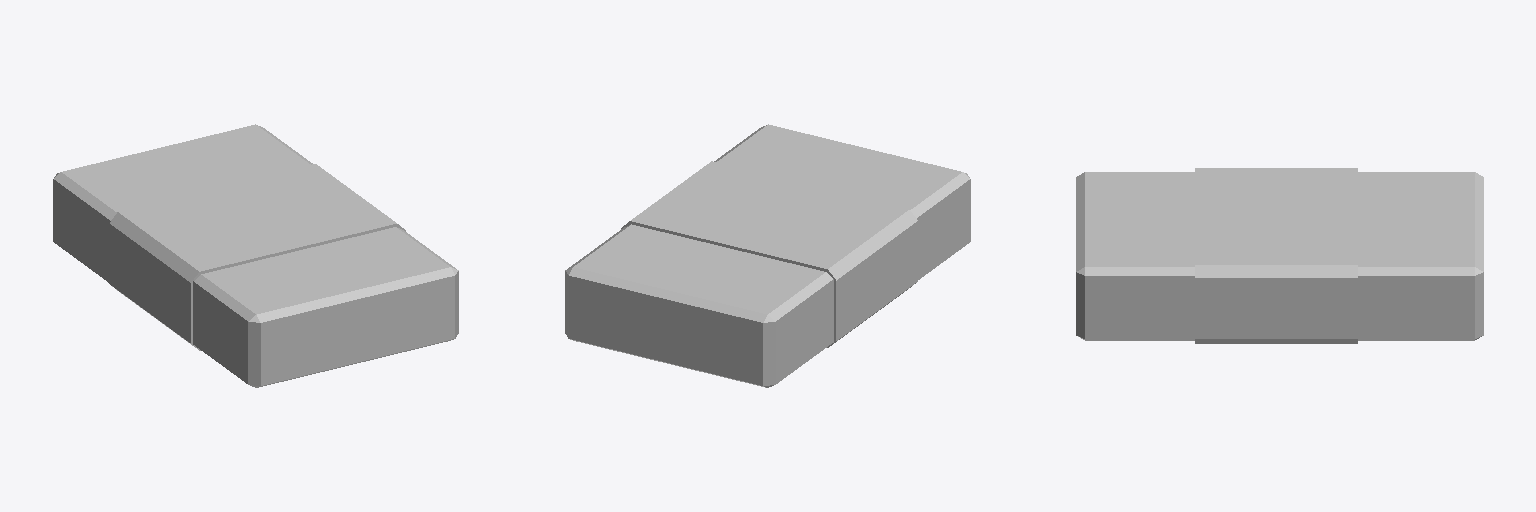
The model's file is plasticExplosves.obj.
3 views of the same model, side by side, from view 1: azimuth 30°, elevation 25°; view 2: azimuth 150°, elevation 25°; view 3: azimuth 270°, elevation 25° (orthographic).
Parts seen in each view (by area): view 1: plastic_explosives_plastic_explosives_mesh; view 2: plastic_explosives_plastic_explosives_mesh; view 3: plastic_explosives_plastic_explosives_mesh.
Part boxes in pixels (x1,y1,x2,y2): plastic_explosives_plastic_explosives_mesh: (53,124,458,387); plastic_explosives_plastic_explosives_mesh: (565,124,970,387); plastic_explosives_plastic_explosives_mesh: (1076,168,1483,343).
Bounding box in the file's own units: 0.2524 × 0.0885 × 0.4143.